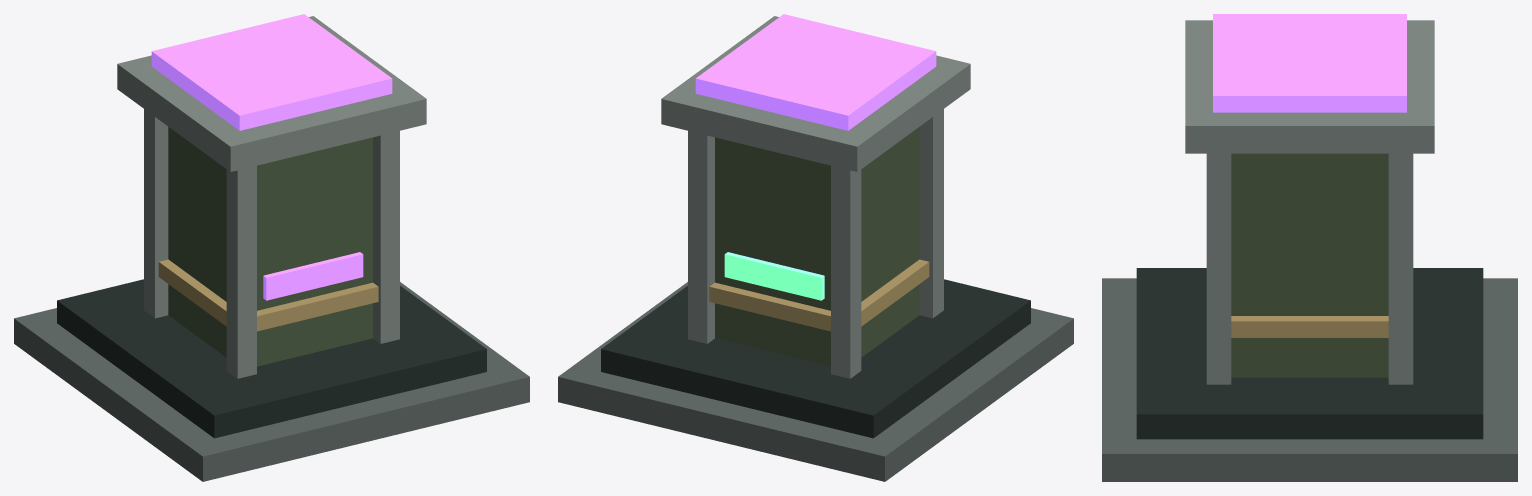
Rendered from chronicle_beacon_l01.glb.
The picture shows the model from 3 angles, left to right: view 1: azimuth 30°, elevation 25°; view 2: azimuth 150°, elevation 25°; view 3: azimuth 270°, elevation 25°; orthographic projection. The views are drawn at different scales.
Visible parts, largest first — view 1: chronicle_beacon_l01; view 2: chronicle_beacon_l01; view 3: chronicle_beacon_l01.
Boxes of the visible parts, box(x1,y1,x2,y2) form: chronicle_beacon_l01: box(14, 14, 529, 481); chronicle_beacon_l01: box(558, 14, 1073, 481); chronicle_beacon_l01: box(1102, 14, 1517, 481).
Bounding box in the file's own units: 2.7 × 2.43 × 2.7.
